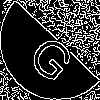G: (25, 25, 83, 86)
